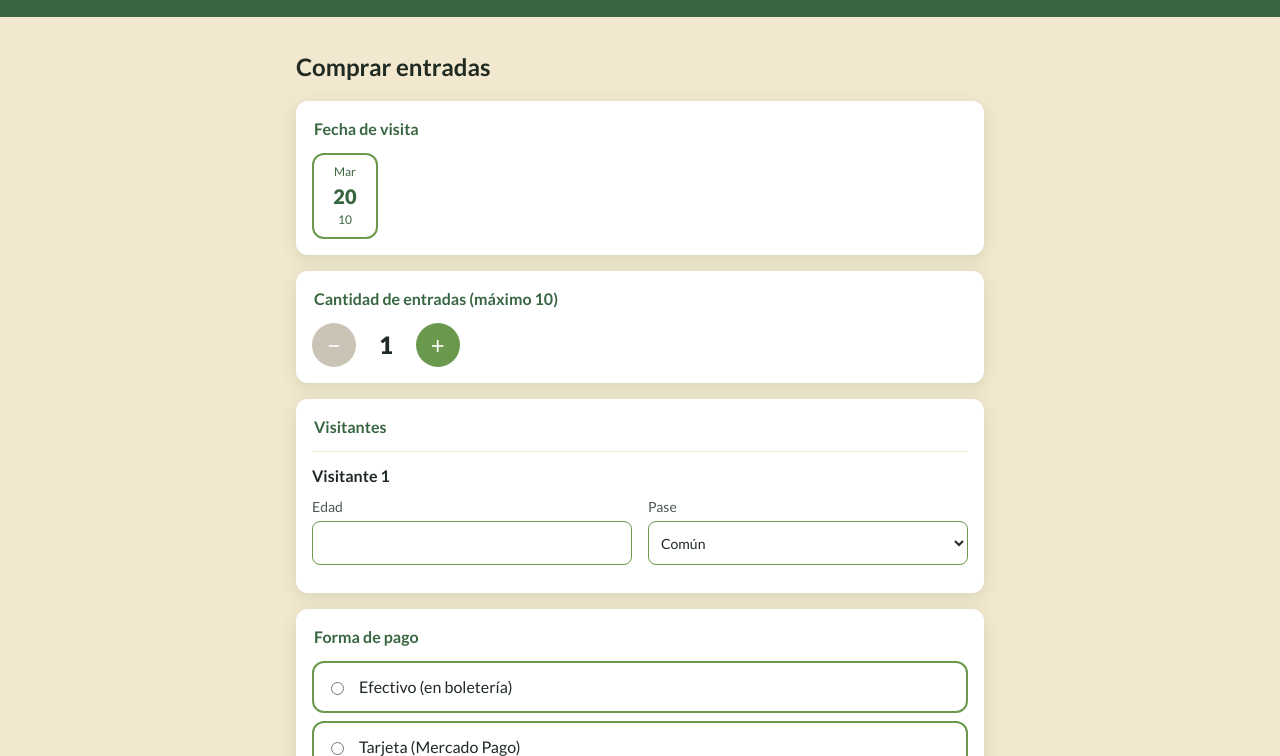
Test case: Flujo de compra de entradas › pago en efectivo › informa la cantidad de entradas y la fecha al finalizar
This screenshot has width=1280, height=756.
Click the button with aria-label "20/10/2026": (345, 196) [312,153,378,239]
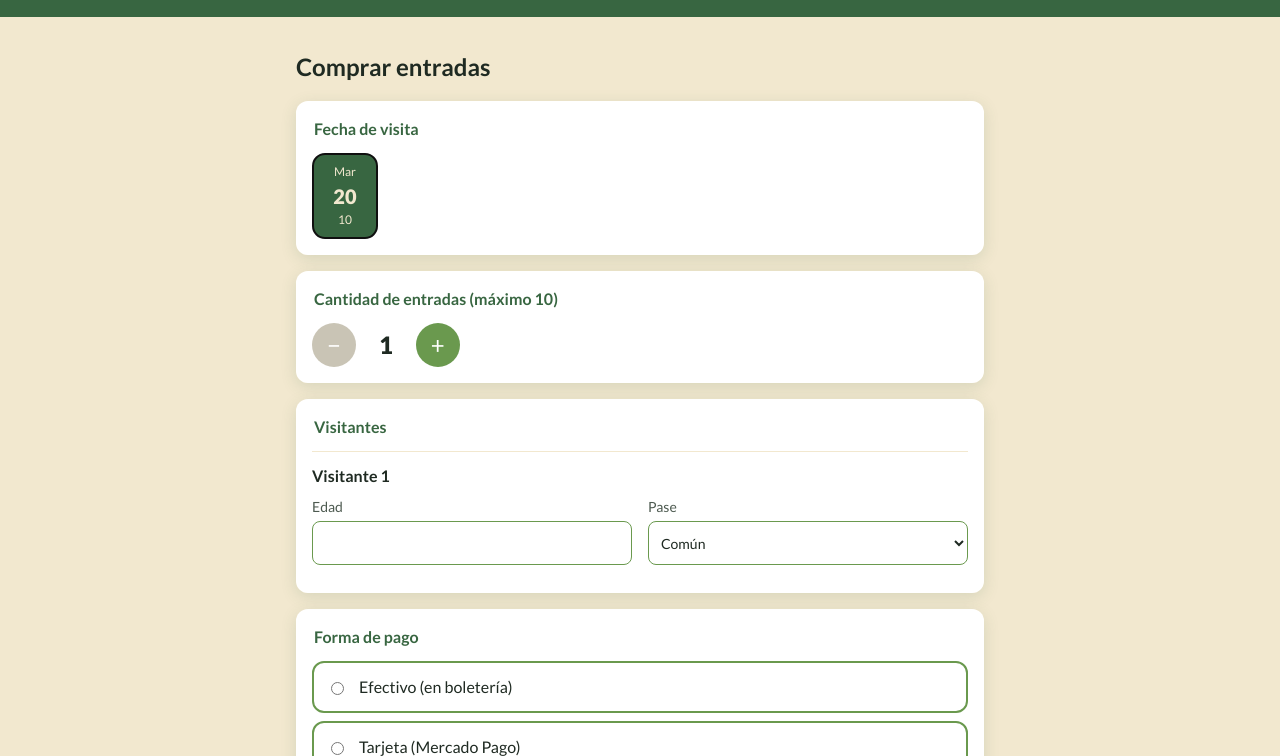
Click the button named "Agregar una entrada": (438, 345) [416,323,460,367]
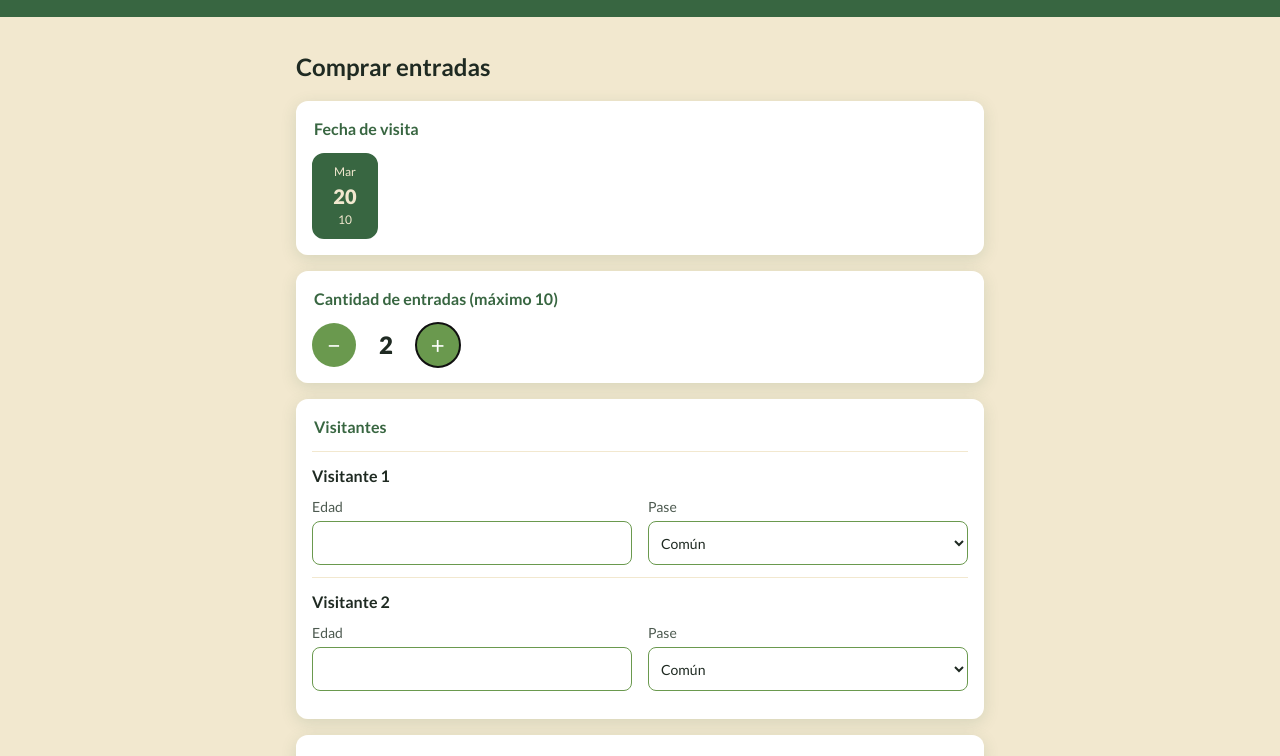
In the number field named "Edad del visitante 1": (472, 543) [312,521,632,565], type "30"
In the number field named "Edad del visitante 2": (472, 669) [312,647,632,691], type "35"
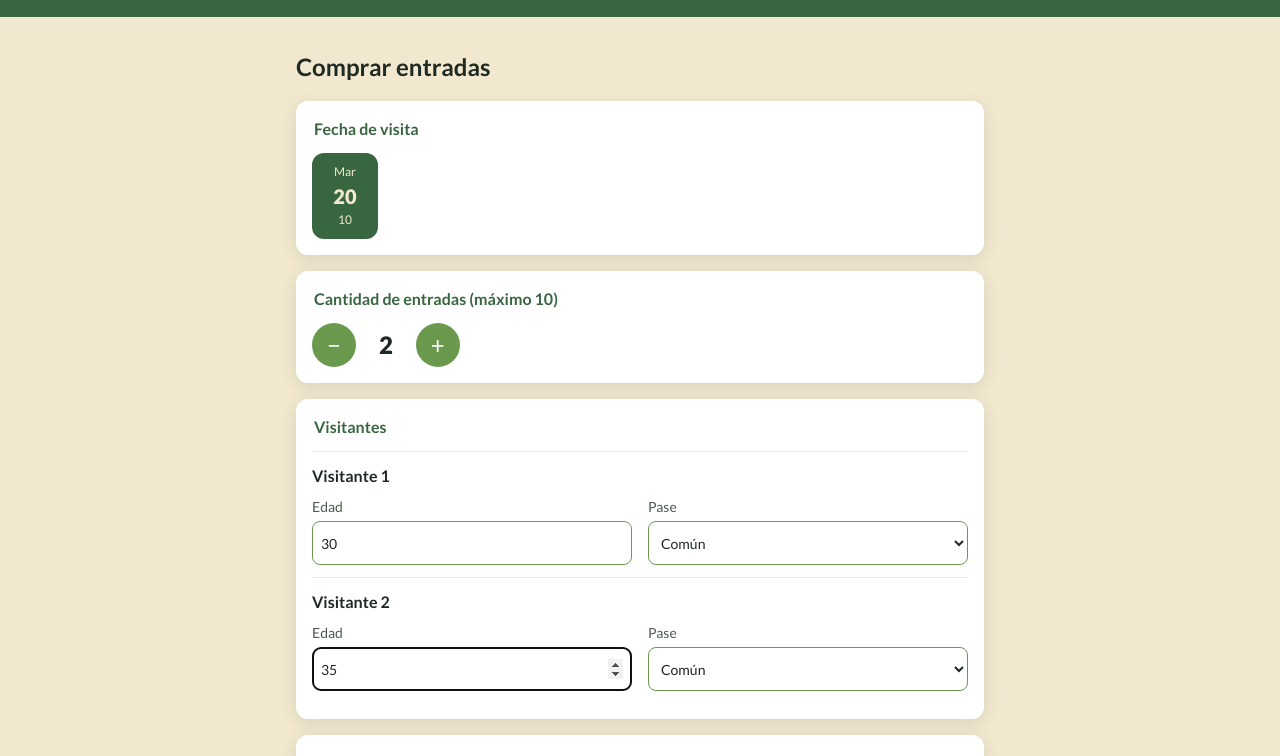
Select "VIP" in the dropdown named "Pase del visitante 2": (808, 669) [648,647,968,691]
(page scrolled)
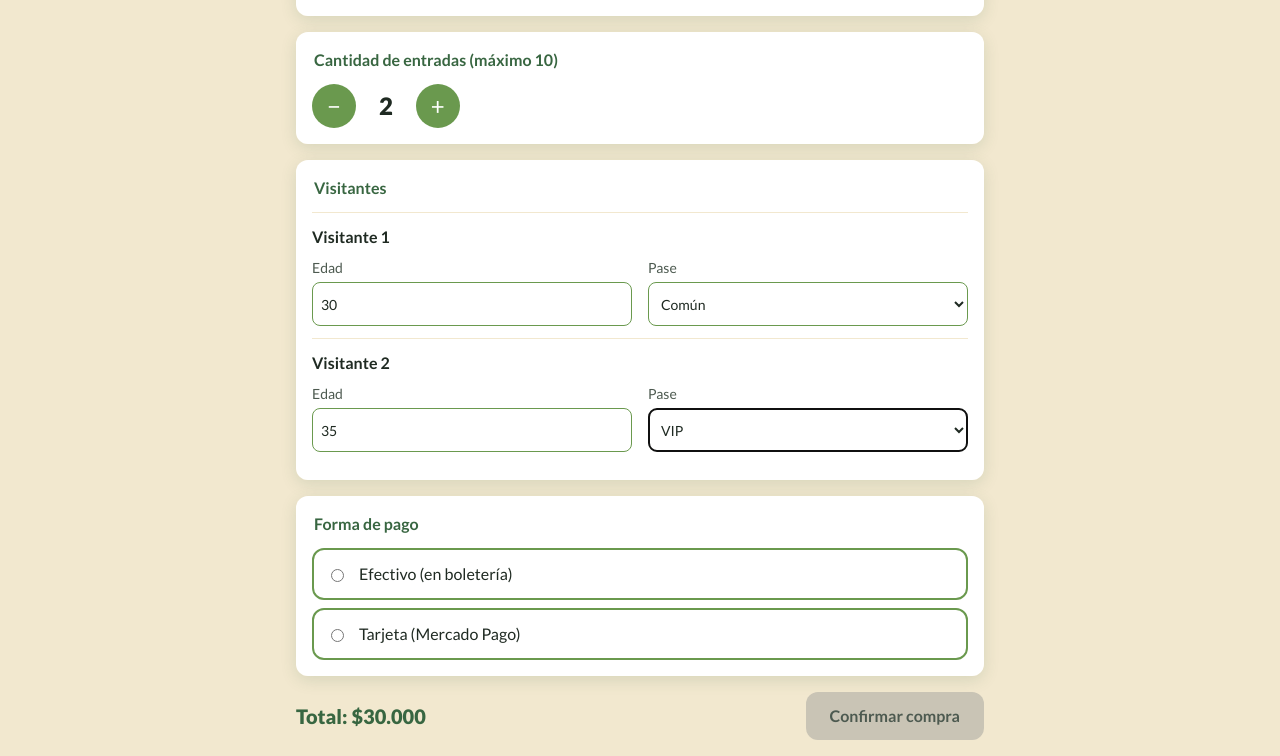
Click the radio button labelled "Efectivo (en boletería)": (338, 576) [331,569,344,582]
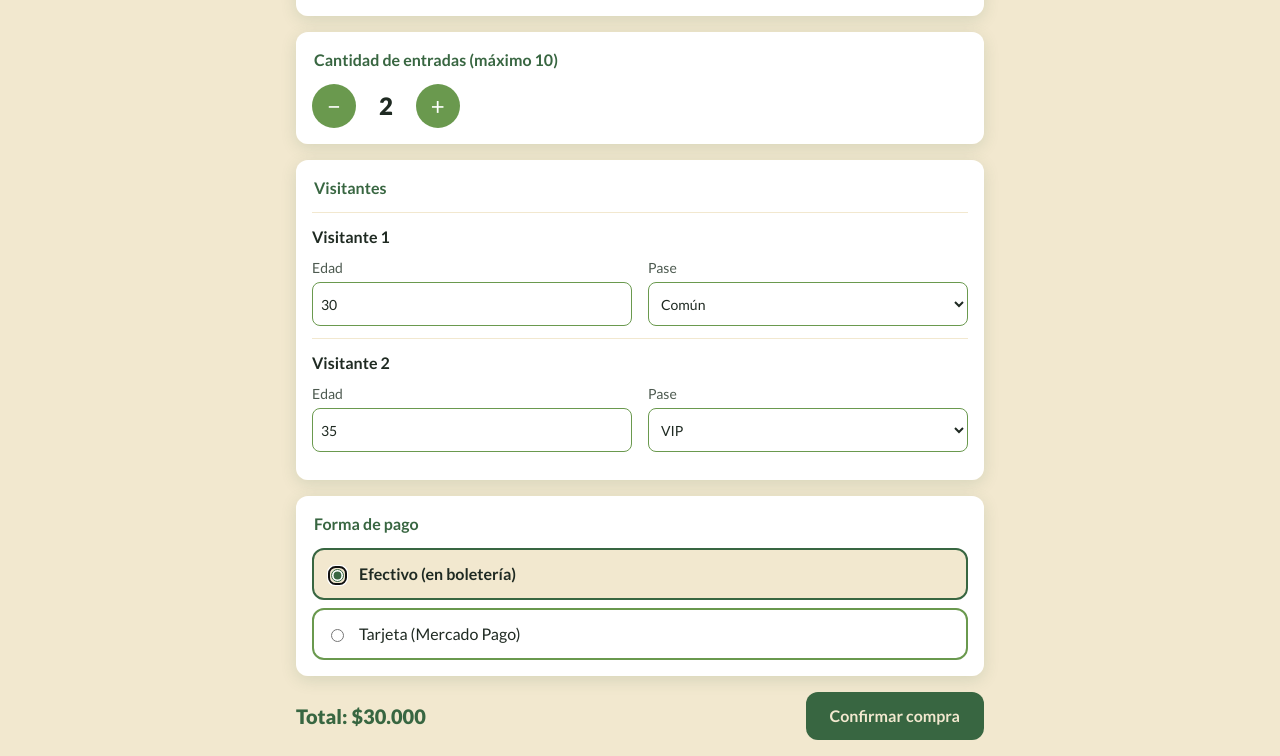
Click the button "Confirmar compra": (895, 716) [806,692,984,740]
(page scrolled)
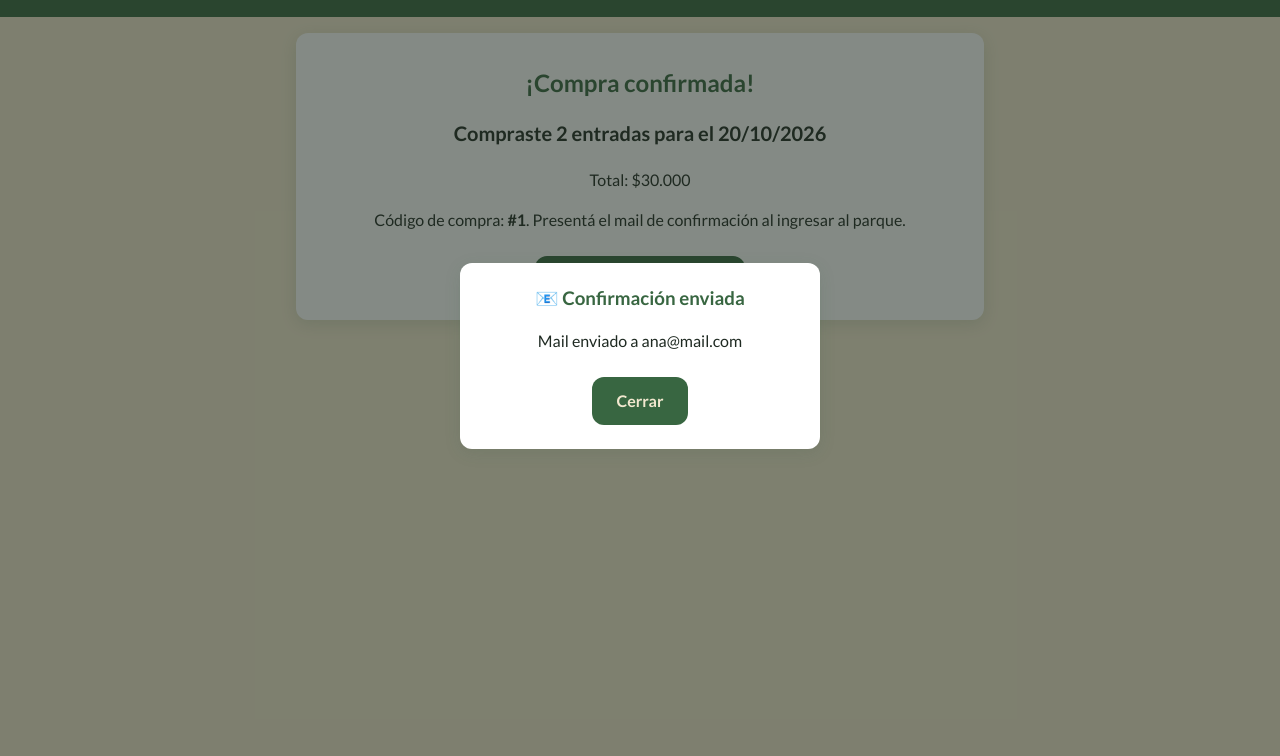
Result: the text "Total: $30.000" is shown at [590,170,690,188]
Result: the heading "¡Compra confirmada!" is shown at [525,68,755,97]
Result: the text "Compraste 2 entradas para el 20/10/2026" is shown at [454,120,826,144]
